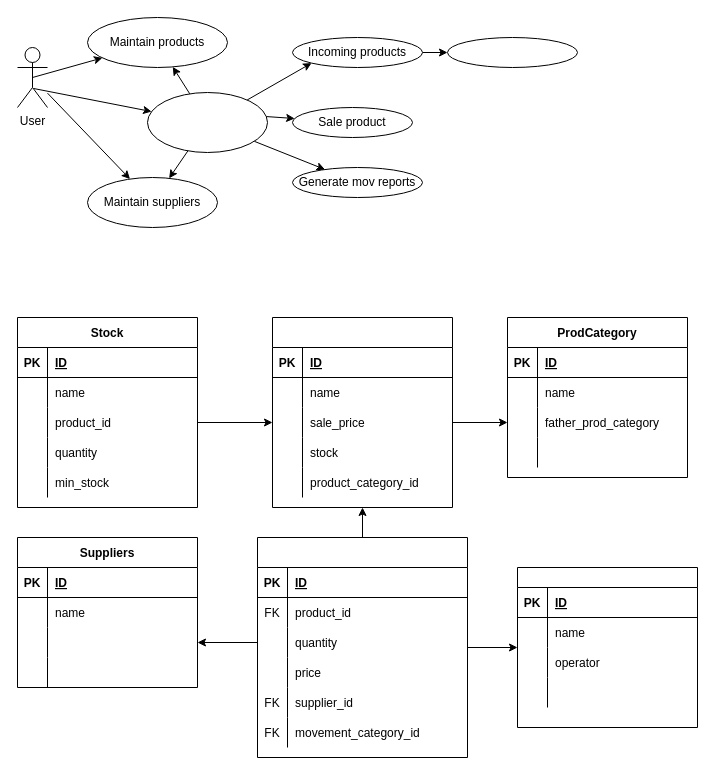
This 715x775 diagram has some shape labels left out. The shapes that lost their labels are listed below. From the top down, each one's box as (x1, y1, x2, y2) in pixels, then its label:
(446, 36, 578, 68): Import XML
(146, 92, 268, 152): Moviment stock
(272, 316, 452, 508): Products
(256, 536, 468, 758): Movements
(516, 566, 698, 728): MovementsType
